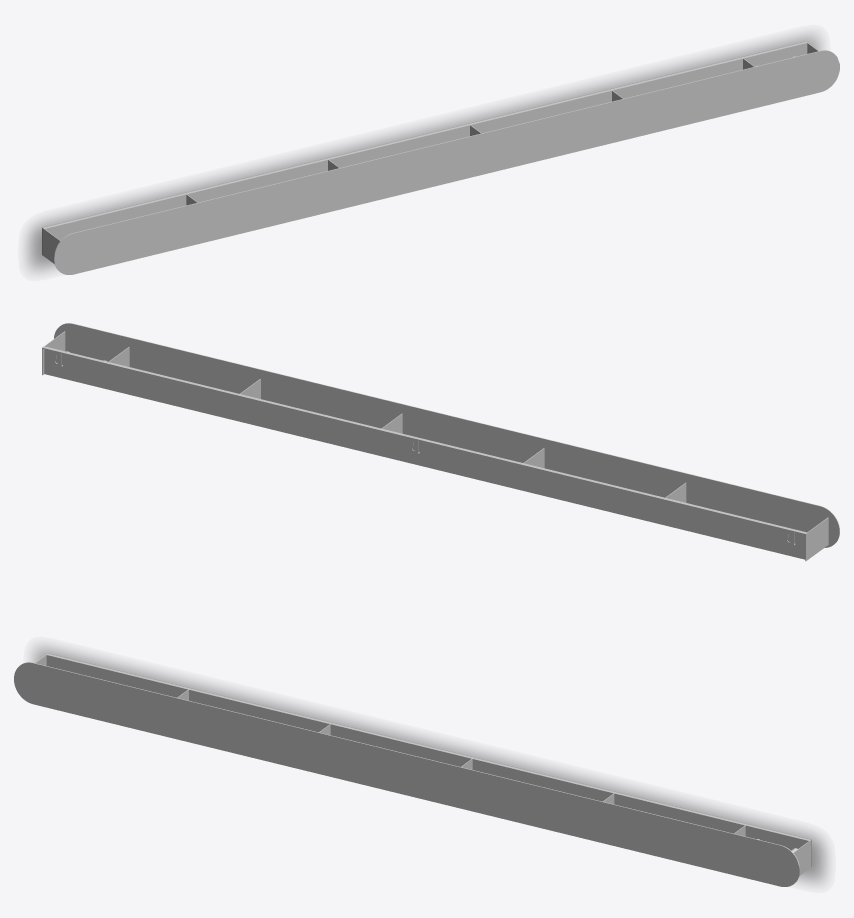
Rendered from round-patron.9c9a3bb431.ar.glb.
3 views of the same model, one above another, from view 1: azimuth 30°, elevation 25°; view 2: azimuth 150°, elevation 25°; view 3: azimuth 330°, elevation 25° (orthographic).
Visible parts, largest first — view 1: NAUO1, object 2; view 2: NAUO1; view 3: NAUO1, object 2.
Boxes of the visible parts, x1,y1,x2,y2 form: NAUO1: [42, 41, 839, 274]; object 2: [26, 34, 821, 271]; NAUO1: [42, 323, 839, 561]; NAUO1: [14, 653, 811, 886]; object 2: [32, 646, 827, 883].
Bounding box in the file's own units: 1.88 × 0.17 × 0.092.
Materials: 2 (1 with a texture image).
